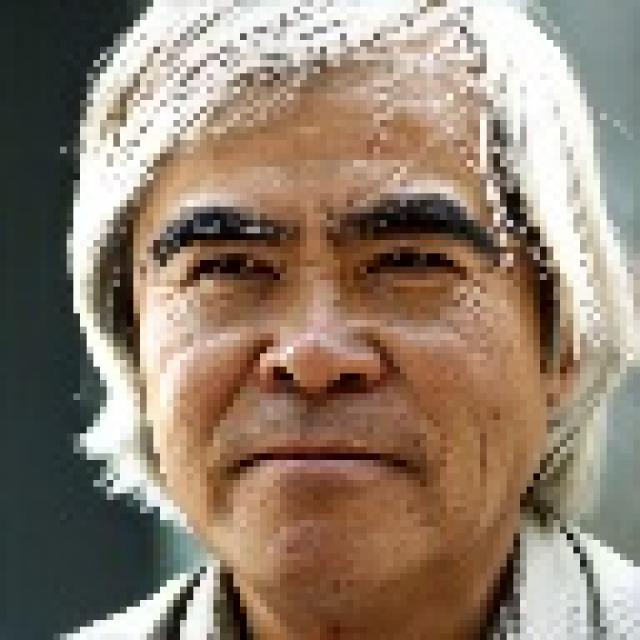angry: (93, 26, 639, 640)
